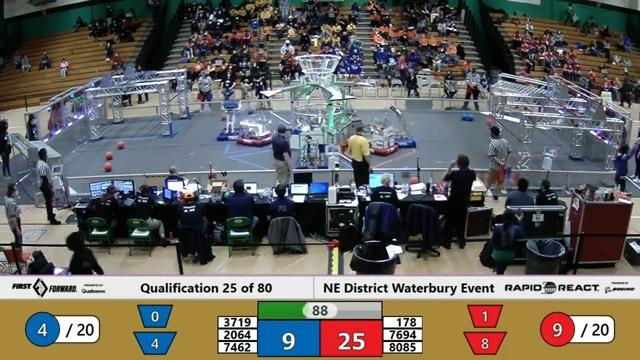robot: (284, 120, 336, 172), (357, 117, 402, 160), (235, 110, 280, 149), (210, 96, 246, 144), (382, 109, 419, 153)
